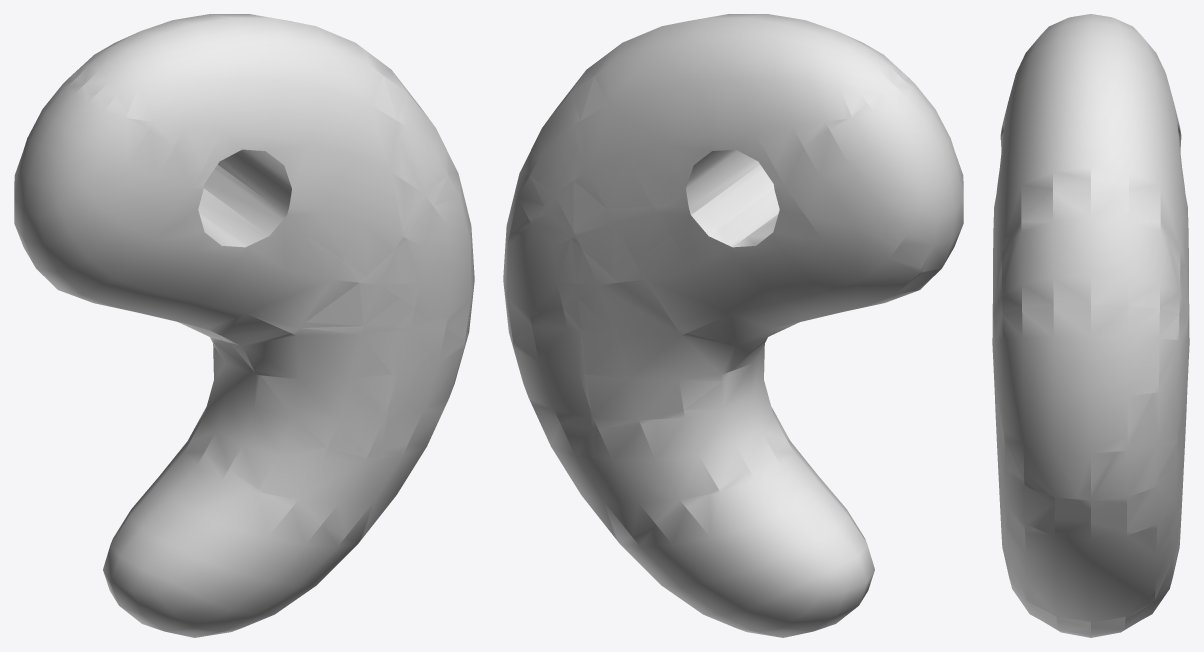
Rendered from 勾玉B.fbx.
3 views of the same model, side by side, from view 1: azimuth 30°, elevation 25°; view 2: azimuth 150°, elevation 25°; view 3: azimuth 270°, elevation 25° (orthographic). The views are drawn at different scales.
Parts seen in each view (by area): view 1: 勾玉B; view 2: 勾玉B; view 3: 勾玉B.
Part boxes in pixels (x1,y1,x2,y2): 勾玉B: [14, 14, 474, 637]; 勾玉B: [503, 14, 963, 637]; 勾玉B: [992, 14, 1189, 637].
Bounding box in the file's own units: 0.7736 × 1.02 × 0.3144.
Materials: 1 (1 with a texture image).
